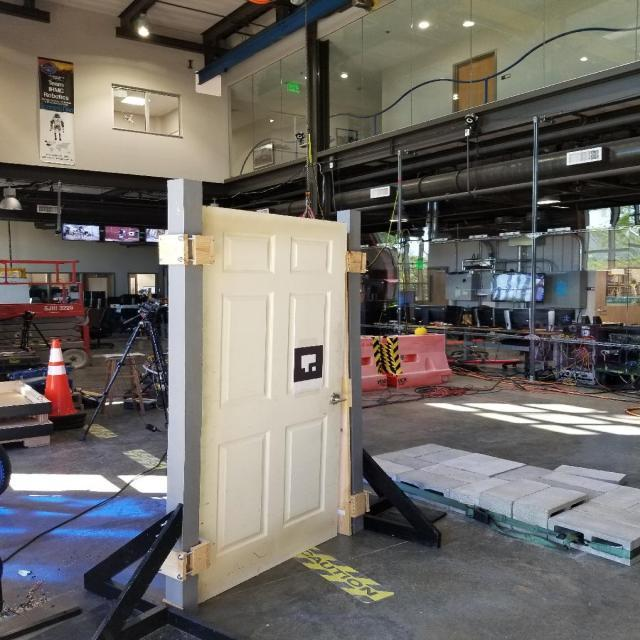door: (192, 200, 350, 612), (326, 392, 346, 406)
